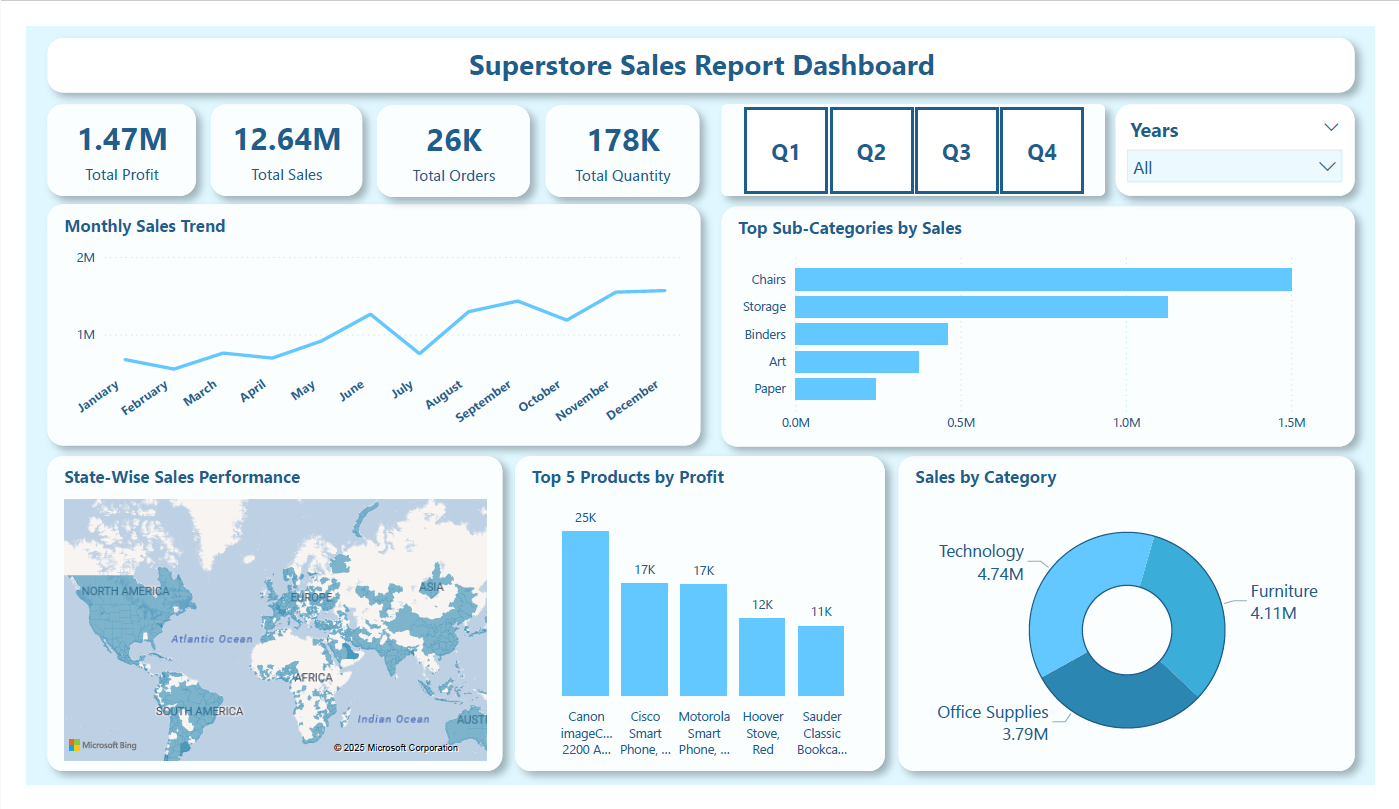

This screenshot's page, from the dashboard's own definition file:
{"tool":"powerbi","page":{"name":"Sales & Profit Overview","canvas":[1280,720],"ordinal":0},"visuals":[{"type":"card","fields":{"Values":["Orders.Total Sales"]},"box":[175.1,74.2,144.3,86.8],"z":0},{"type":"card","fields":{"Values":["Orders.Total Quantity"]},"box":[493.4,74.8,146,86.9],"z":1000},{"type":"card","fields":{"Values":["Orders.Total Profit"]},"box":[19.6,74.2,141.5,86.8],"z":2000},{"type":"filledMap","title":"State-Wise Sales Performance","fields":{"Category":["Orders.State"]},"box":[19.6,407.6,432.8,299.8],"z":3000},{"type":"lineChart","title":"Monthly Sales Trend","fields":{"Category":["DateTable.Month Name"],"Y":["Orders.Total Sales"]},"box":[19.6,169.5,620.5,228.3],"z":4000},{"type":"donutChart","title":"Sales by Category","fields":{"Category":["Orders.Category"],"Y":["Orders.Total Sales"]},"box":[827.8,407.6,432.8,299.8],"z":5000},{"type":"clusteredBarChart","title":"Top Sub-Categories by Sales","fields":{"Y":["Orders.Total Sales"],"Category":["Orders.Sub-Category"]},"box":[659.8,170.9,600.9,228.3],"z":6000},{"type":"card","fields":{"Values":["Orders.Total Orders"]},"box":[333,74.8,144.8,86.9],"z":7000},{"type":"textbox","title":"Superstore Sales Report Dashboard","box":[19.6,11.2,1241.1,51.8],"z":8000},{"type":"slicer","fields":{"Values":["DateTable.Quater"]},"box":[659.8,74.2,364.2,86.8],"z":9000},{"type":"slicer","fields":{"Values":["DateTable.Years"]},"box":[1033.7,74.2,226.9,86.8],"z":10000},{"type":"columnChart","title":"Top 5 Products by Profit","fields":{"Category":["Orders.Product Name"],"Y":["Orders.Total Profit"]},"box":[463.6,407.6,351.6,299.8],"z":11000}]}

Visuals, with their boxes in screenshot pixels (x1, y1, x2, y2), scaled from the page's 1280x720 canvas onto the 1399x809 screenshot:
card - Orders.Total Sales: box=[191, 83, 349, 181]
card - Orders.Total Quantity: box=[539, 84, 699, 182]
card - Orders.Total Profit: box=[21, 83, 176, 181]
"State-Wise Sales Performance" filledMap: box=[21, 458, 494, 795]
"Monthly Sales Trend" lineChart: box=[21, 190, 700, 447]
"Sales by Category" donutChart: box=[905, 458, 1378, 795]
"Top Sub-Categories by Sales" clusteredBarChart: box=[721, 192, 1378, 449]
card - Orders.Total Orders: box=[364, 84, 522, 182]
"Superstore Sales Report Dashboard" textbox: box=[21, 13, 1378, 71]
slicer - DateTable.Quater: box=[721, 83, 1119, 181]
slicer - DateTable.Years: box=[1130, 83, 1378, 181]
"Top 5 Products by Profit" columnChart: box=[507, 458, 891, 795]
